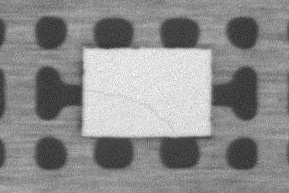DIE_CRACK: (90, 89, 177, 131)
